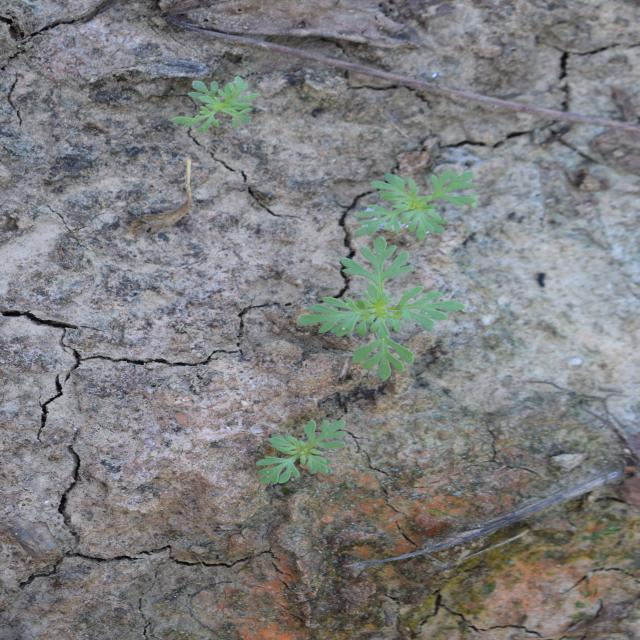Ragweed: (293, 235, 469, 382), (350, 167, 482, 242), (252, 417, 349, 485), (169, 74, 264, 134)
